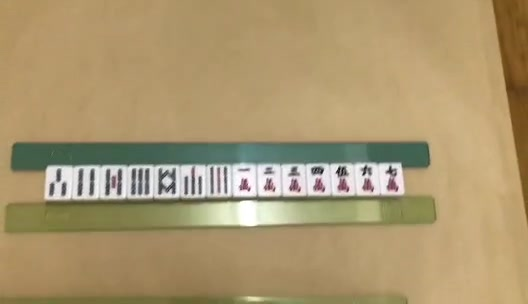1m: (238, 167, 251, 194)
2m: (263, 167, 277, 192)
3m: (287, 167, 301, 193)
3s: (49, 168, 68, 196)
4m: (312, 167, 326, 190)
4s: (76, 168, 96, 196)
5m: (336, 165, 350, 193)
5s: (104, 170, 123, 197)
6m: (361, 164, 375, 191)
6s: (132, 166, 151, 195)
7m: (385, 165, 399, 191)
7s: (186, 167, 203, 194)
8s: (156, 167, 176, 194)
9s: (209, 166, 230, 194)
